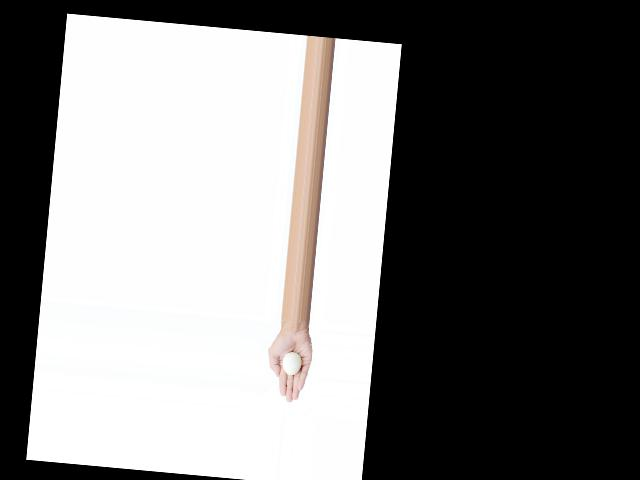egg: (281, 351, 302, 377)
